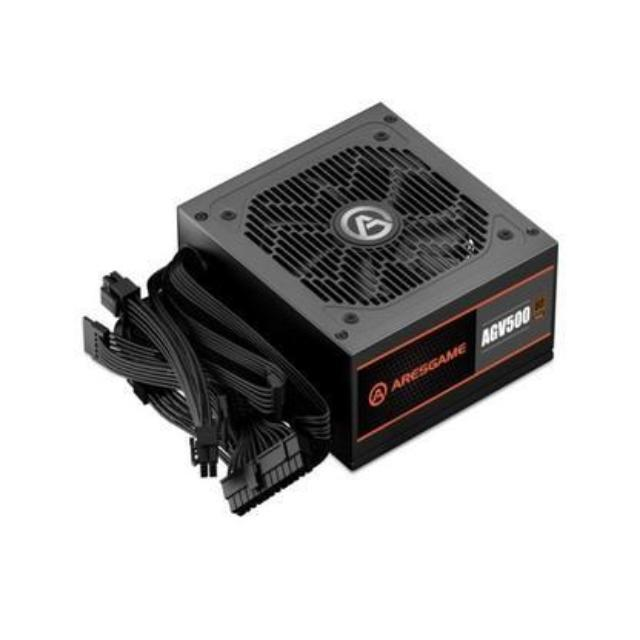PSU: (128, 88, 580, 466)
